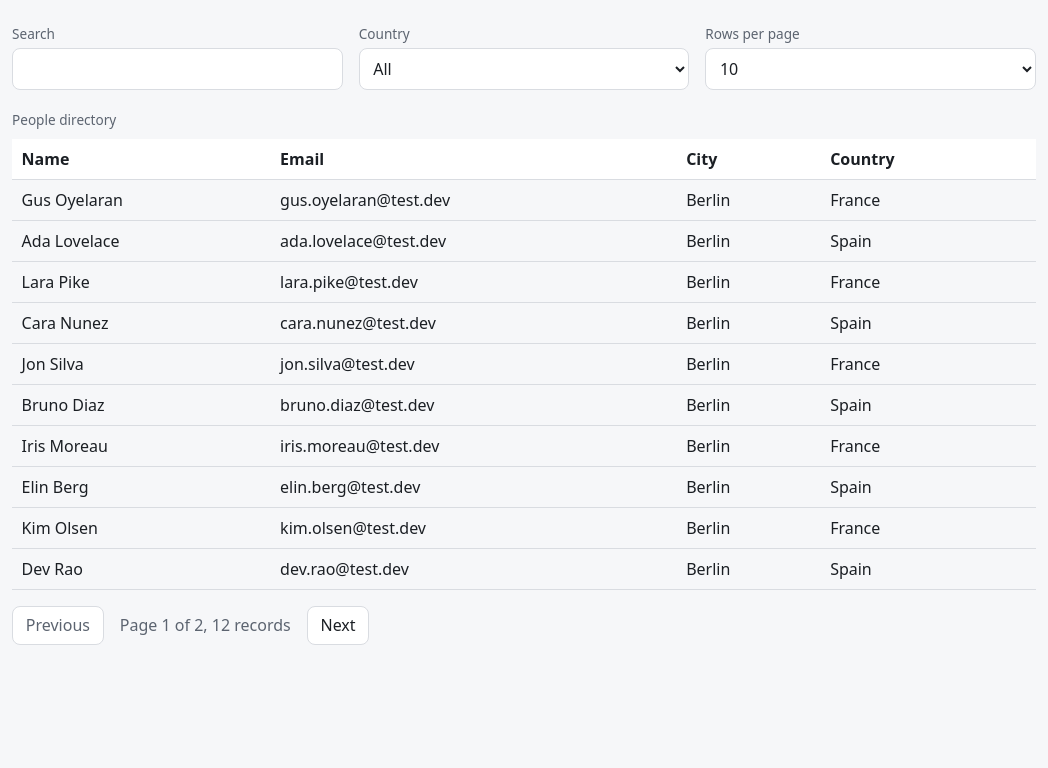
it: Directory › steps back through sort changes with the browser back button
The image size is (1048, 768).
Click the button "Name" at (54,159), box [22,147,86,171]
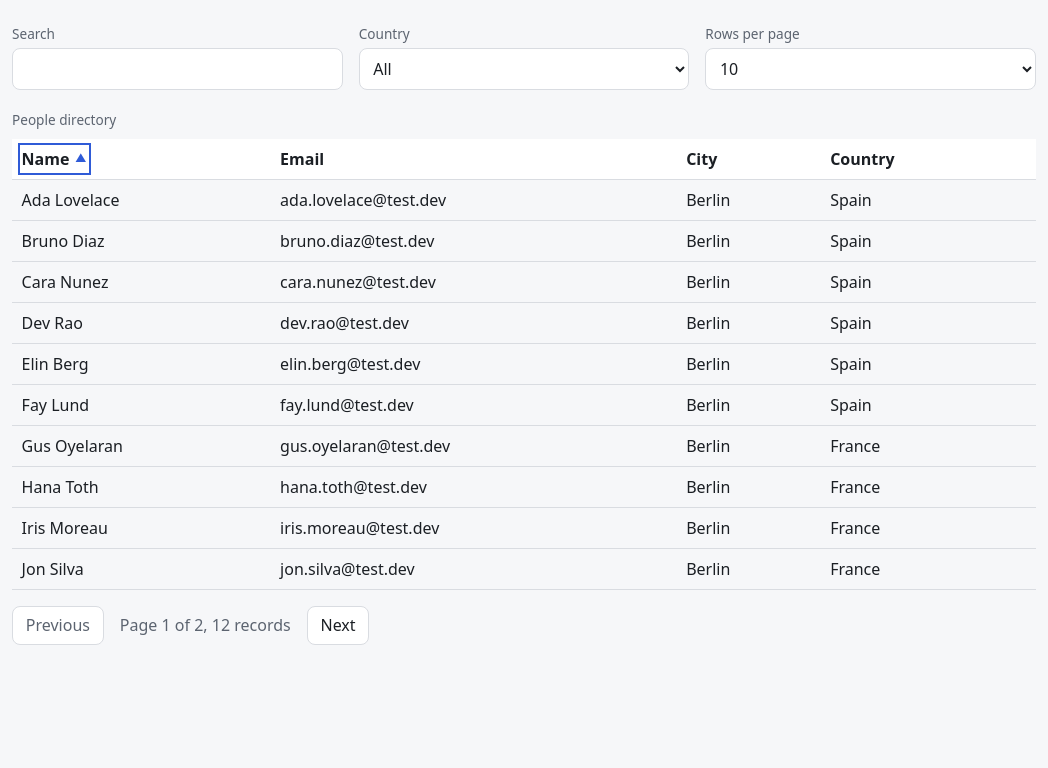
Expected: the cell "Ada Lovelace" is shown, [12,179,270,220]
Click the button "Name ▲" at (54,159), box [22,147,87,171]
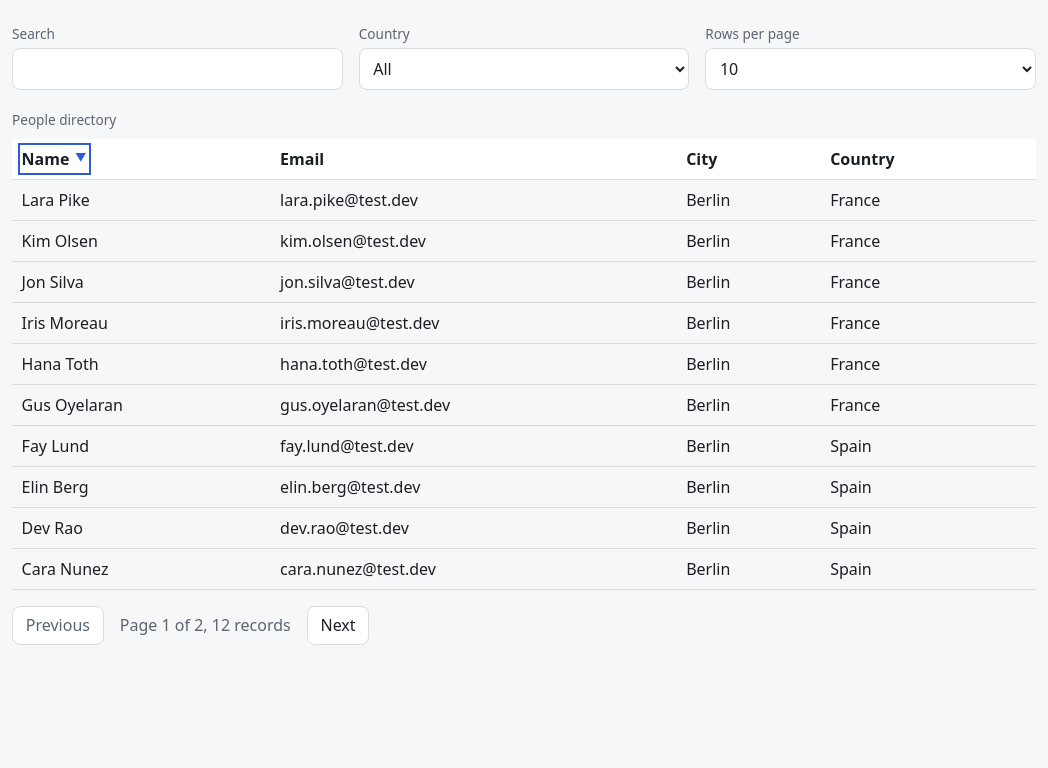
Expected: the cell "Lara Pike" is shown, [12,179,270,220]
